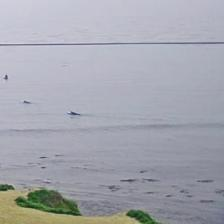surfer: (68, 112, 81, 116), (23, 100, 30, 104), (3, 74, 8, 79)
